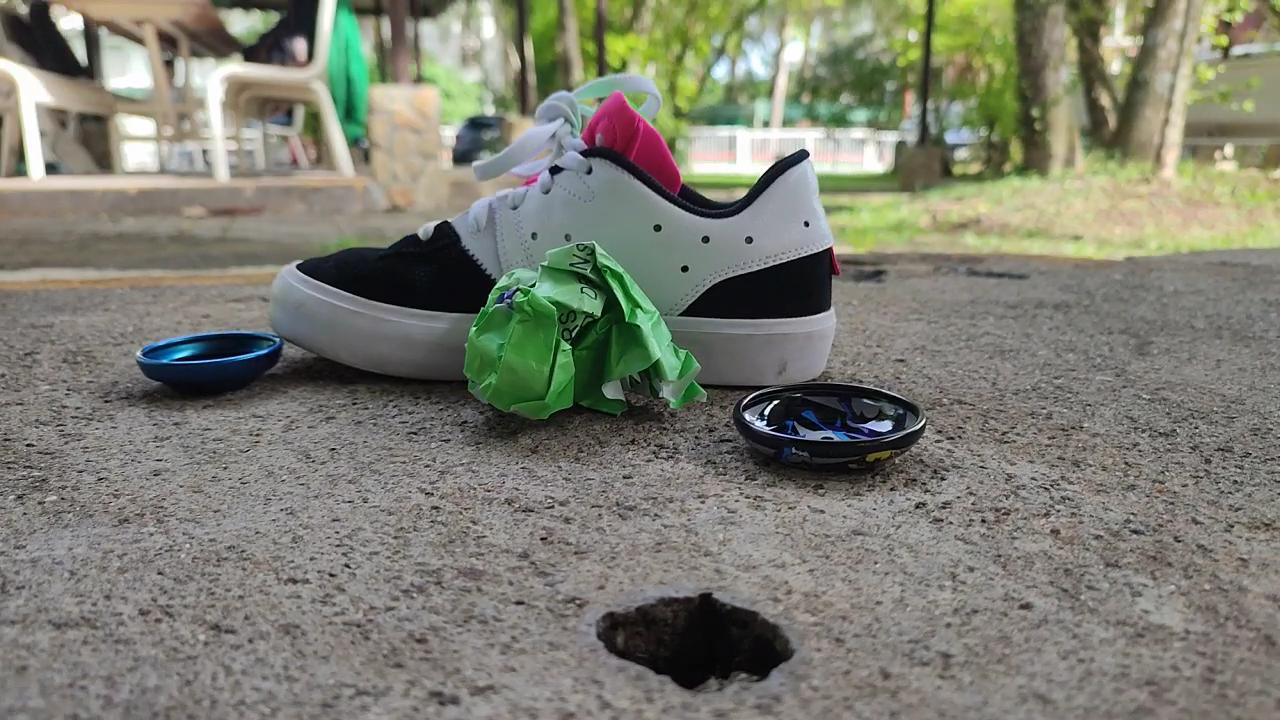Paper: (449, 221, 717, 440)
